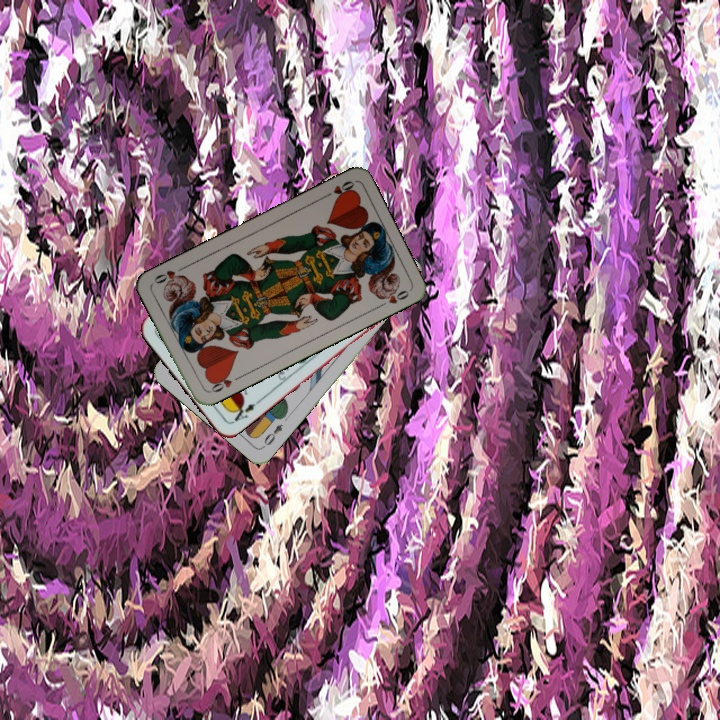EA: (227, 396, 263, 426)
EO: (259, 420, 285, 451)
HO: (205, 369, 243, 396), (318, 177, 357, 201)
